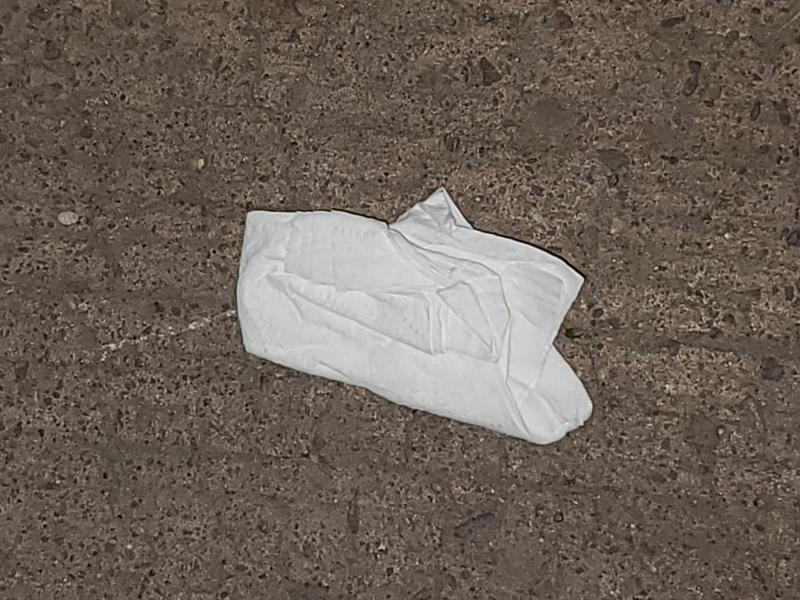papel: (235, 189, 595, 446)
